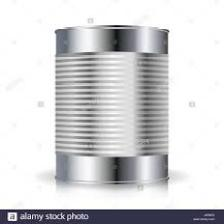metal: (28, 11, 187, 198)
